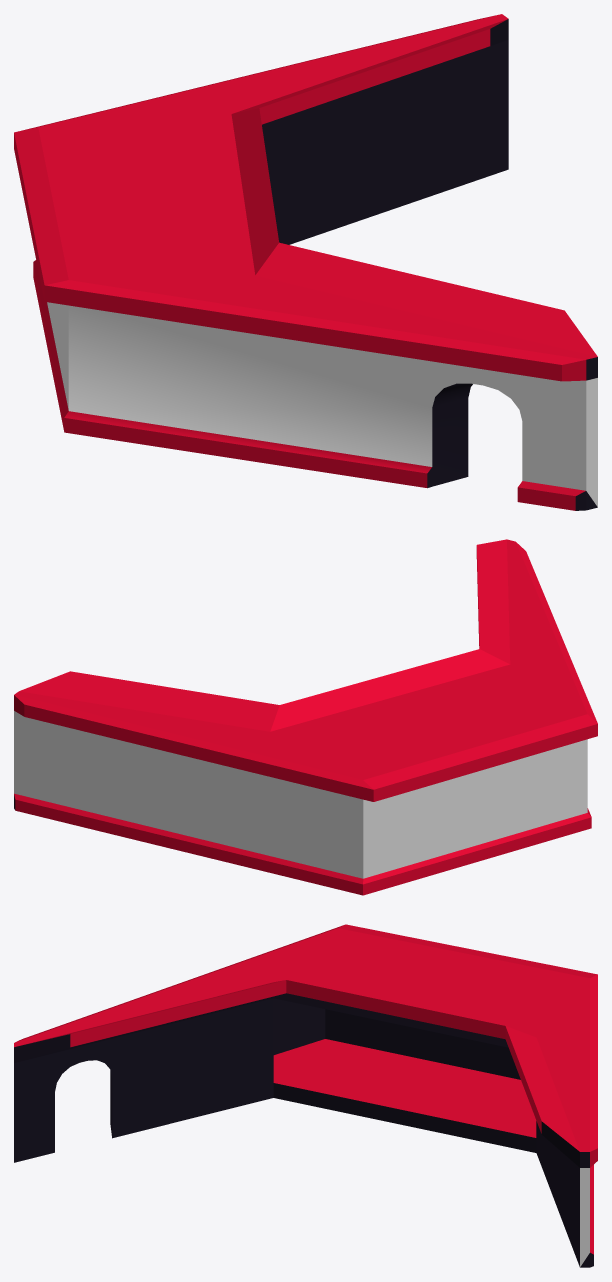
The model's file is CEON_CABARET.glb.
3 renders of one model, top to bottom at view 1: azimuth 30°, elevation 25°; view 2: azimuth 150°, elevation 25°; view 3: azimuth 270°, elevation 25°, orthographic. The views are drawn at different scales.
Visible parts, largest first — view 1: CABARET; view 2: CABARET; view 3: CABARET.
Part boxes in pixels (x1=…): CABARET: x1=14, y1=14, x2=597, y2=510; CABARET: x1=14, y1=539, x2=597, y2=895; CABARET: x1=14, y1=924, x2=597, y2=1267.
Size of the model in its own units: 14.09 by 3.71 by 15.06.
